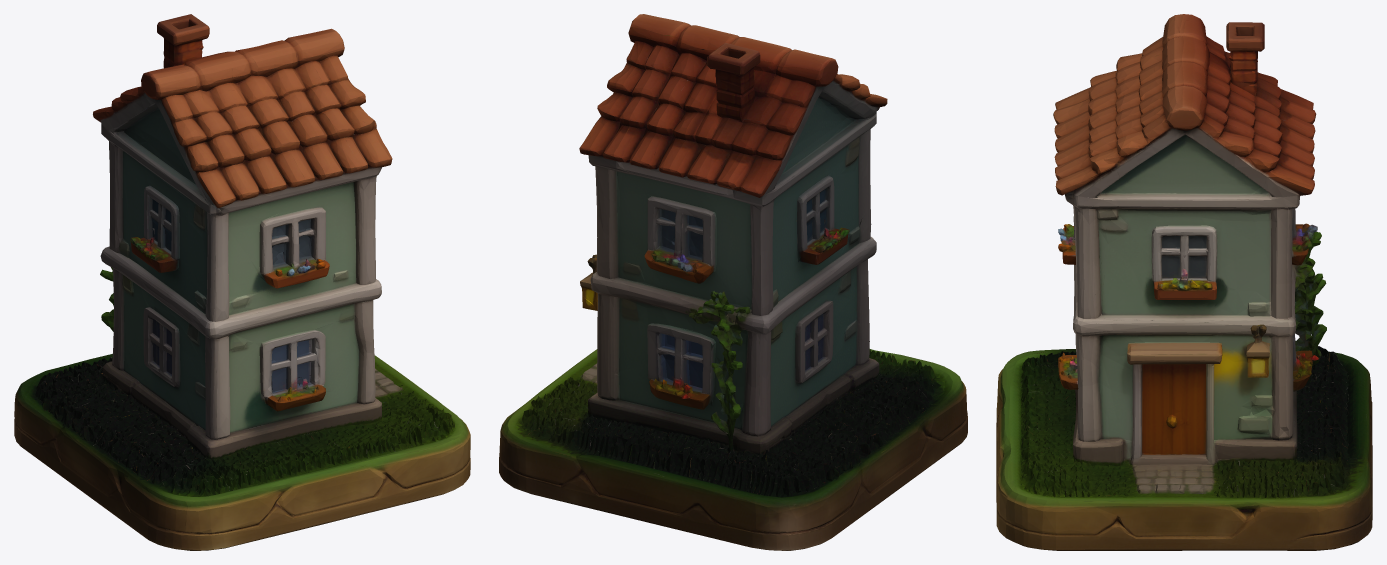
The model's file is relleno_casa_menta.glb.
3 views of the same model, side by side, from view 1: azimuth 30°, elevation 25°; view 2: azimuth 150°, elevation 25°; view 3: azimuth 270°, elevation 25° (orthographic). The views are drawn at different scales.
Visible parts, largest first — view 1: world; view 2: world; view 3: world.
Boxes of the visible parts, x1,y1,x2,y2 form: world: (14,14,470,550); world: (499,14,967,550); world: (996,14,1372,550).
Bounding box in the file's own units: 0.7922 × 0.999 × 0.7942.
Materials: 1 (1 with a texture image).
